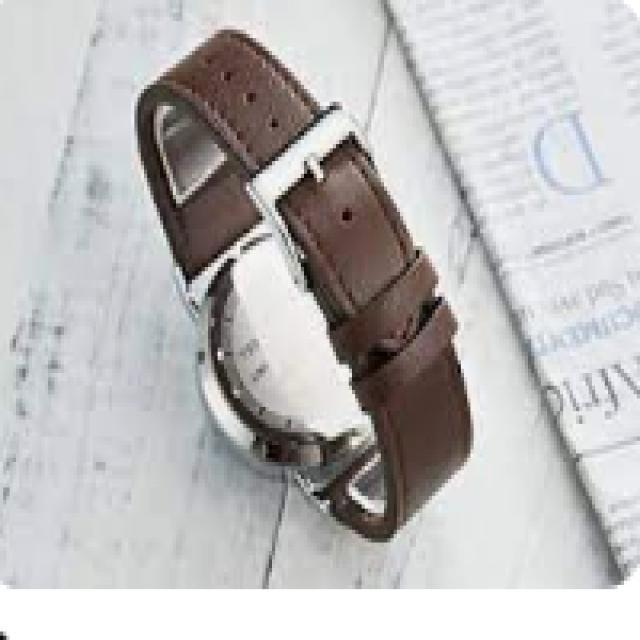Watch: (134, 30, 473, 544)
